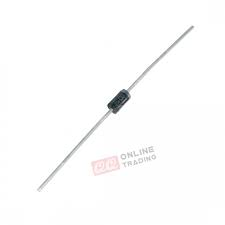diode: (90, 75, 149, 128)
